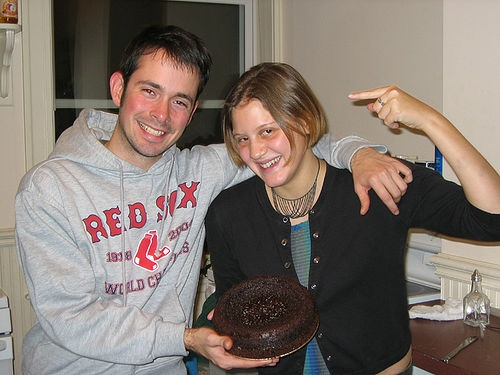head: (109, 25, 212, 158), (218, 59, 321, 192)
person: (200, 68, 497, 373), (12, 17, 259, 375)
